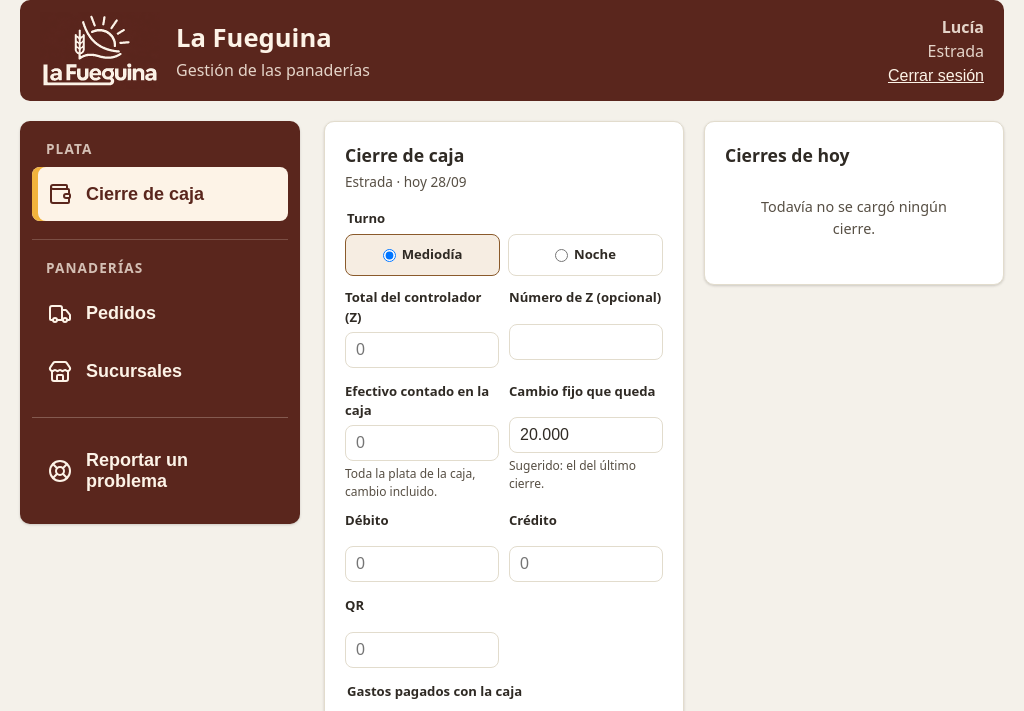
Scenario: cierre de caja: empleada con permiso › pone los puntos de miles mientras se escribe y no pide transferencias
Step 1. Click the button "Cierre de caja" → {"x": 160, "y": 194}, box [32,167,288,221]
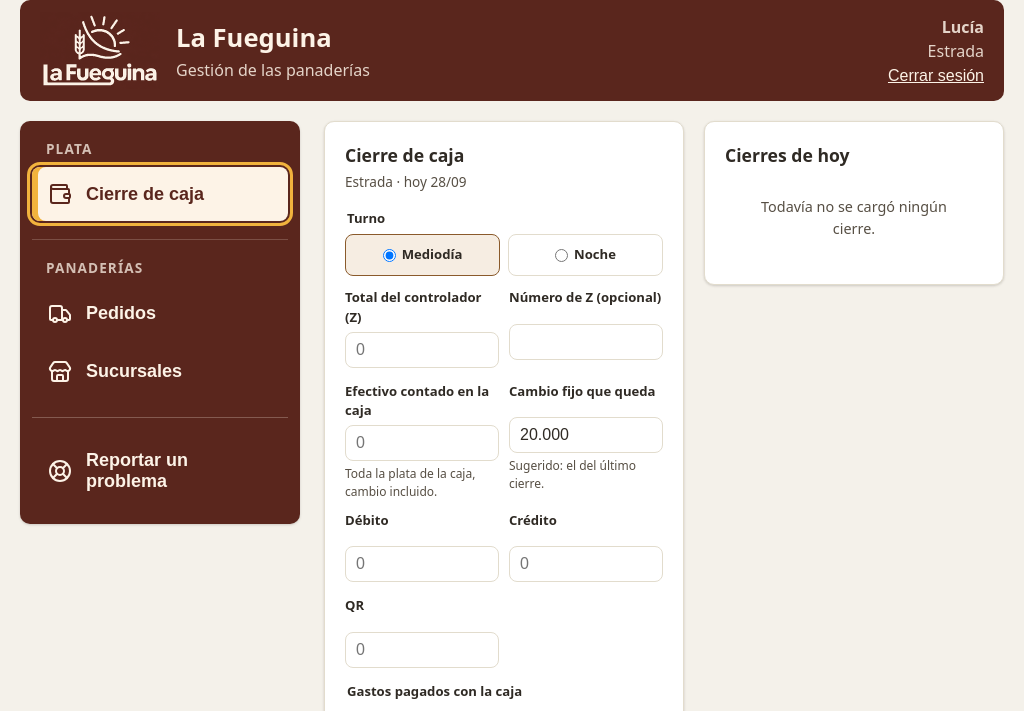
Expected: the heading "Cierre de caja" is shown, [345,143,464,167]
Expected: the text "Estrada · hoy 28/09" is shown, [345,172,467,191]
Step 2. Type "15456,599" into the field labelled "Débito" → {"x": 422, "y": 564}, box [345,546,499,582]
(page scrolled)
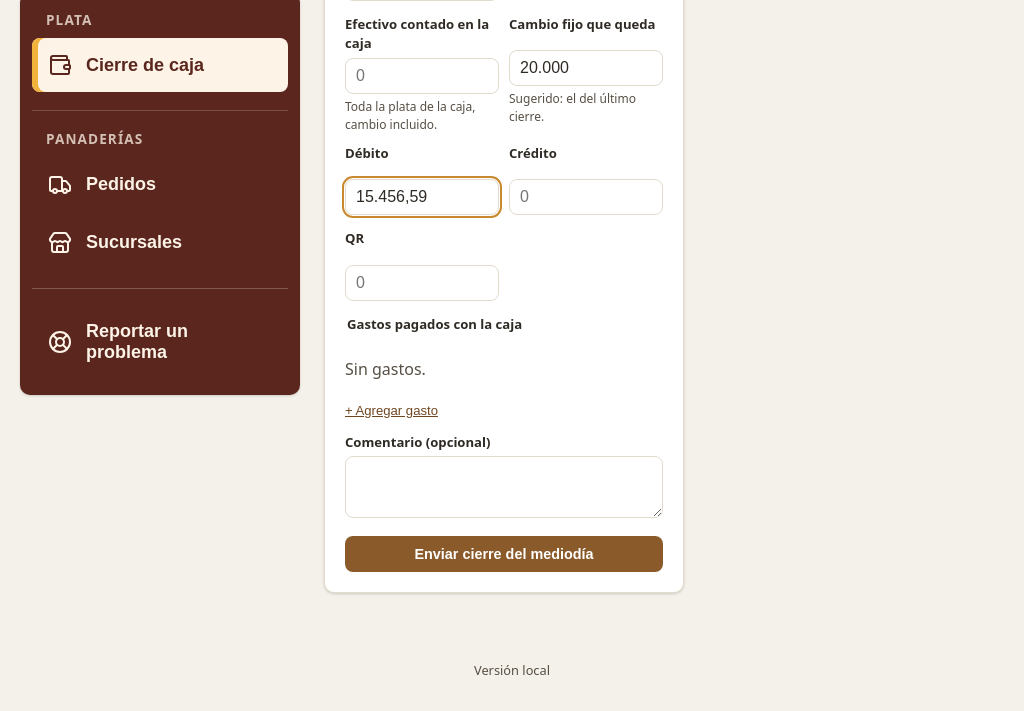
Expected: the field labelled "Débito" holds "15.456,59", [345,179,499,215]
Step 3. Click the button "+ Agregar gasto" → {"x": 391, "y": 410}, box [345,403,438,418]
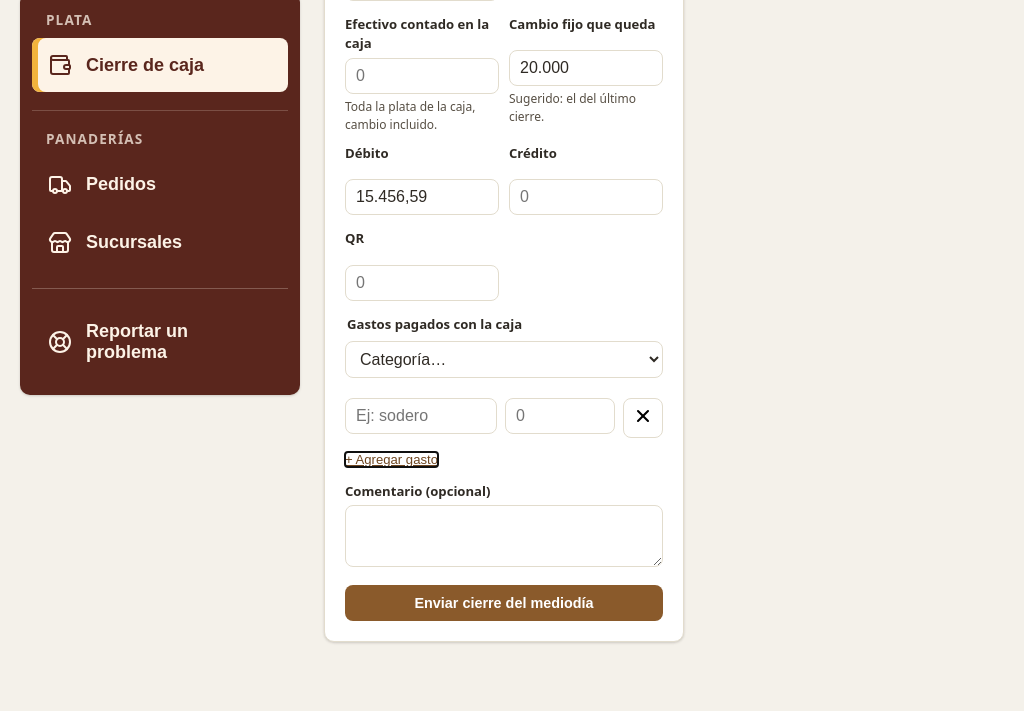
Step 4. Type "1500" into the field named "Monto del gasto 1" → {"x": 560, "y": 416}, box [505,398,615,434]
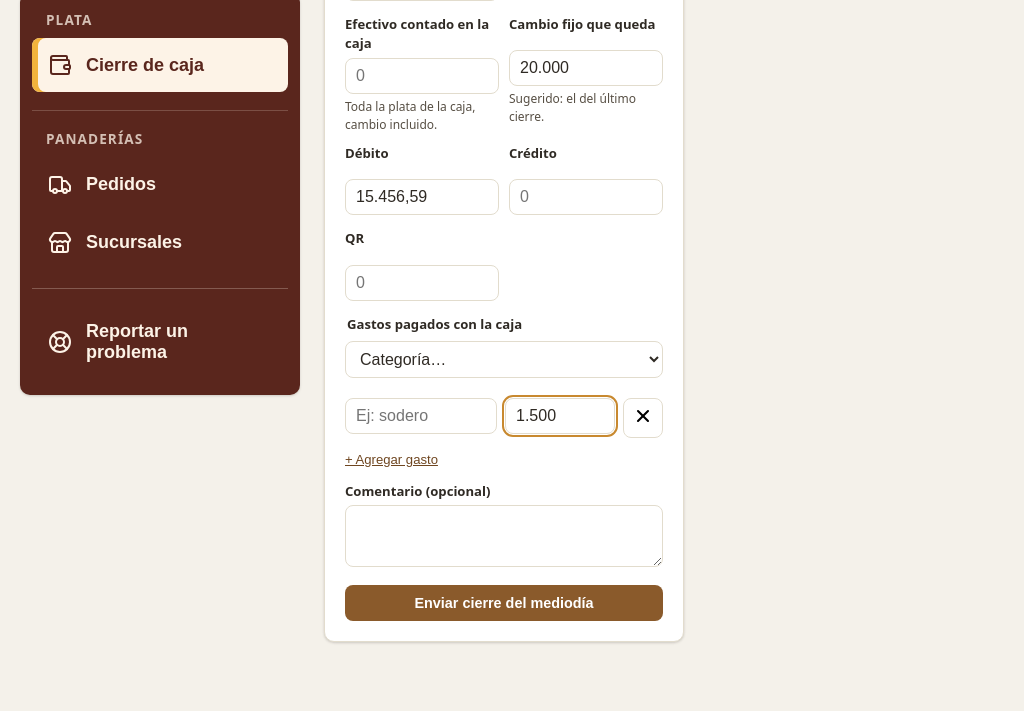
Expected: the field named "Monto del gasto 1" holds "1.500", [505,398,615,434]
